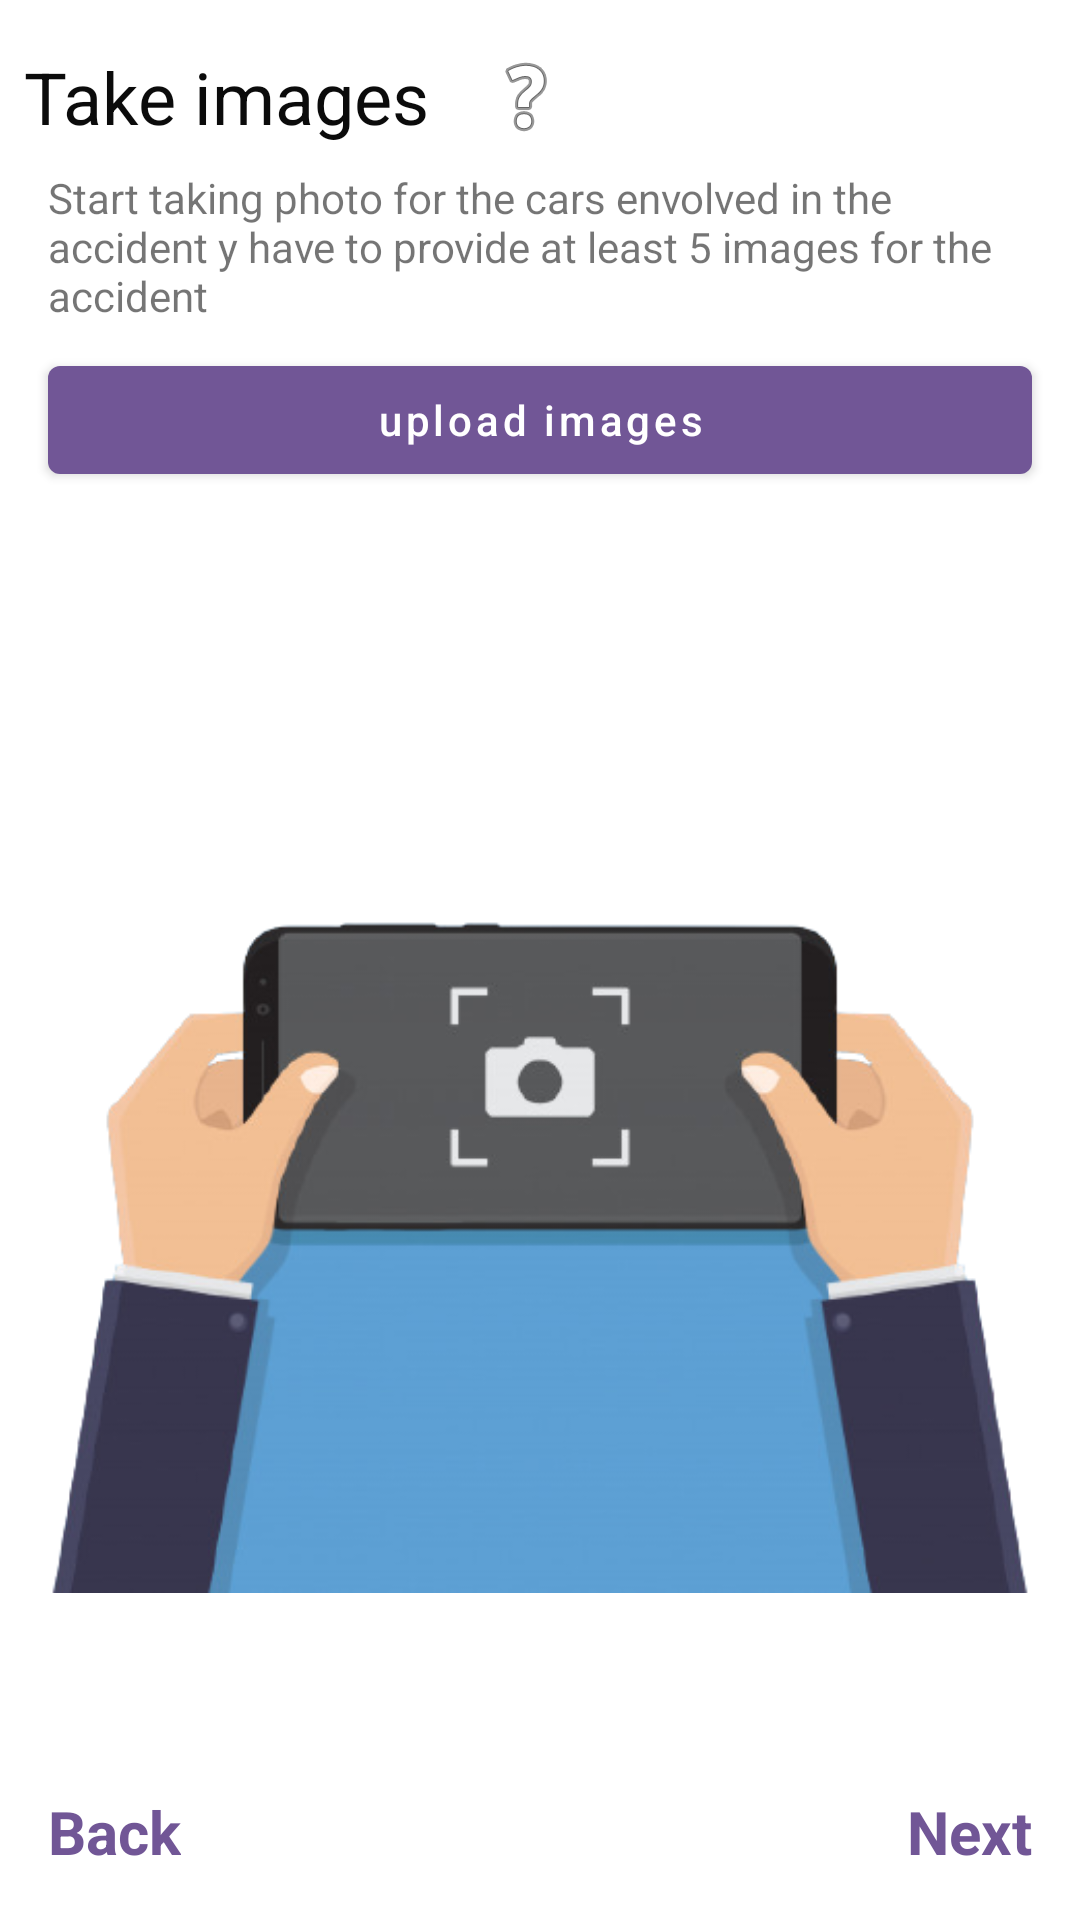

Named icons in this screenshot (1080×1920) and their centers, (x,y):
help: (526,97)
